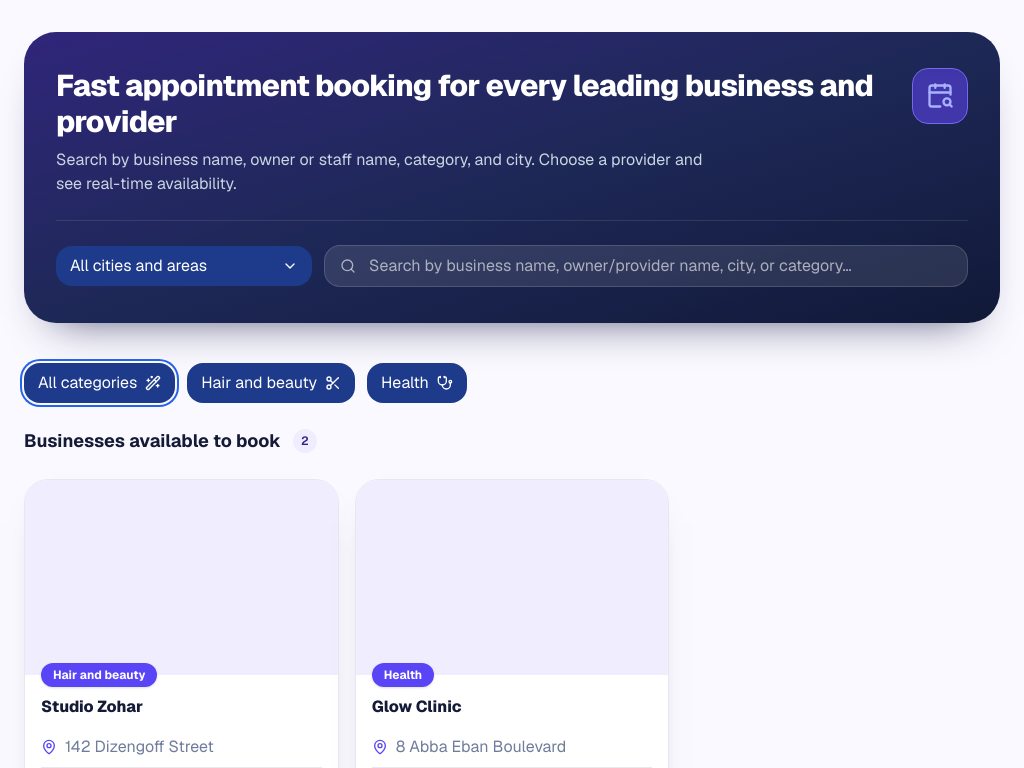
Test: discovery search › matches a business by the name of someone who works there (§12.22)
Replace the text in the search field with "zohar levi" at coordinates (646, 266), box [324,245,968,287]
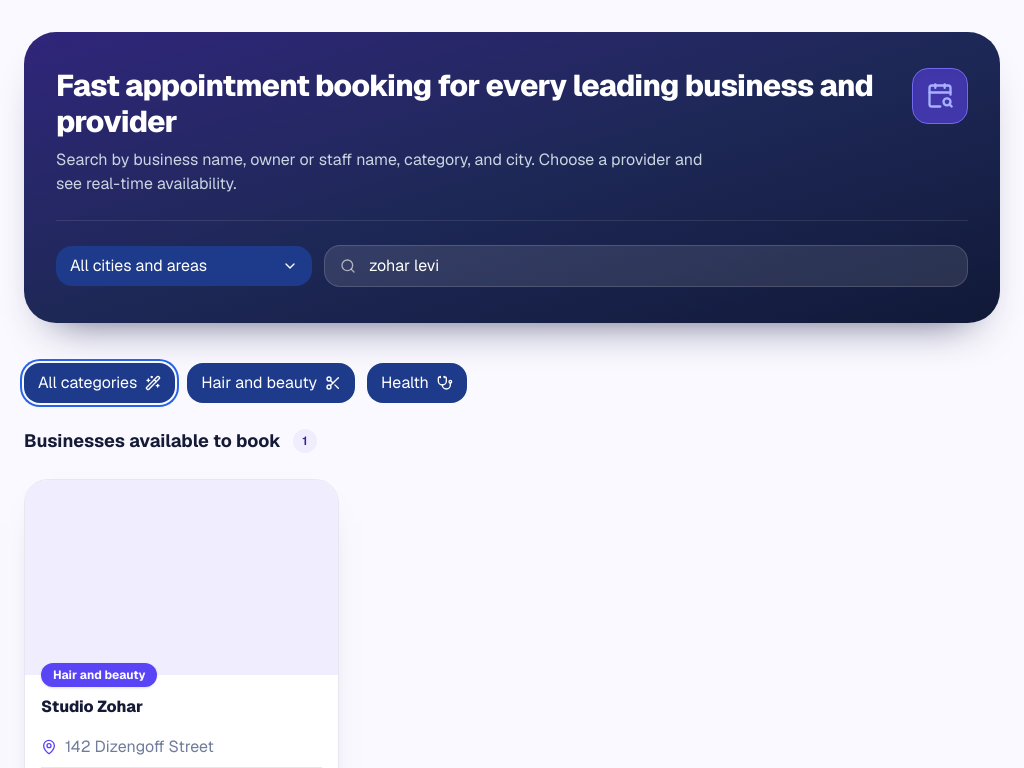
expect the heading "Studio Zohar" is shown: met, box [41,696,143,717]
expect the heading "Glow Clinic" is gone: met
